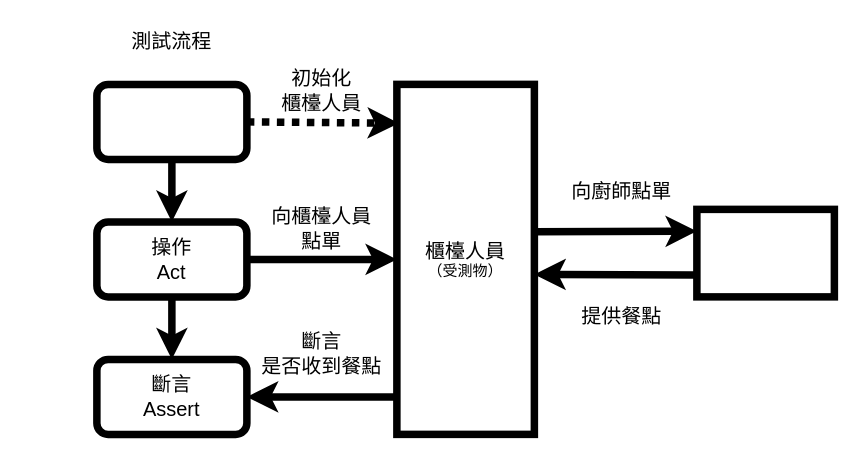
The diagram is 859 pixels wide and 459 high, and some of its shapes have lost their labels. The shapes that lost their labels are listed below. From the top down, each one's centre as x and y in pixels, then its label:
At pixel 171 121: "準備 Arrange".
At pixel 765 252: "廚師 （依賴物）".
